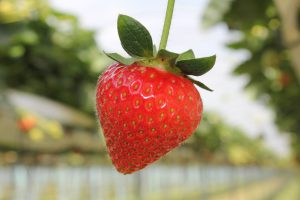ripe: (91, 57, 212, 175)
